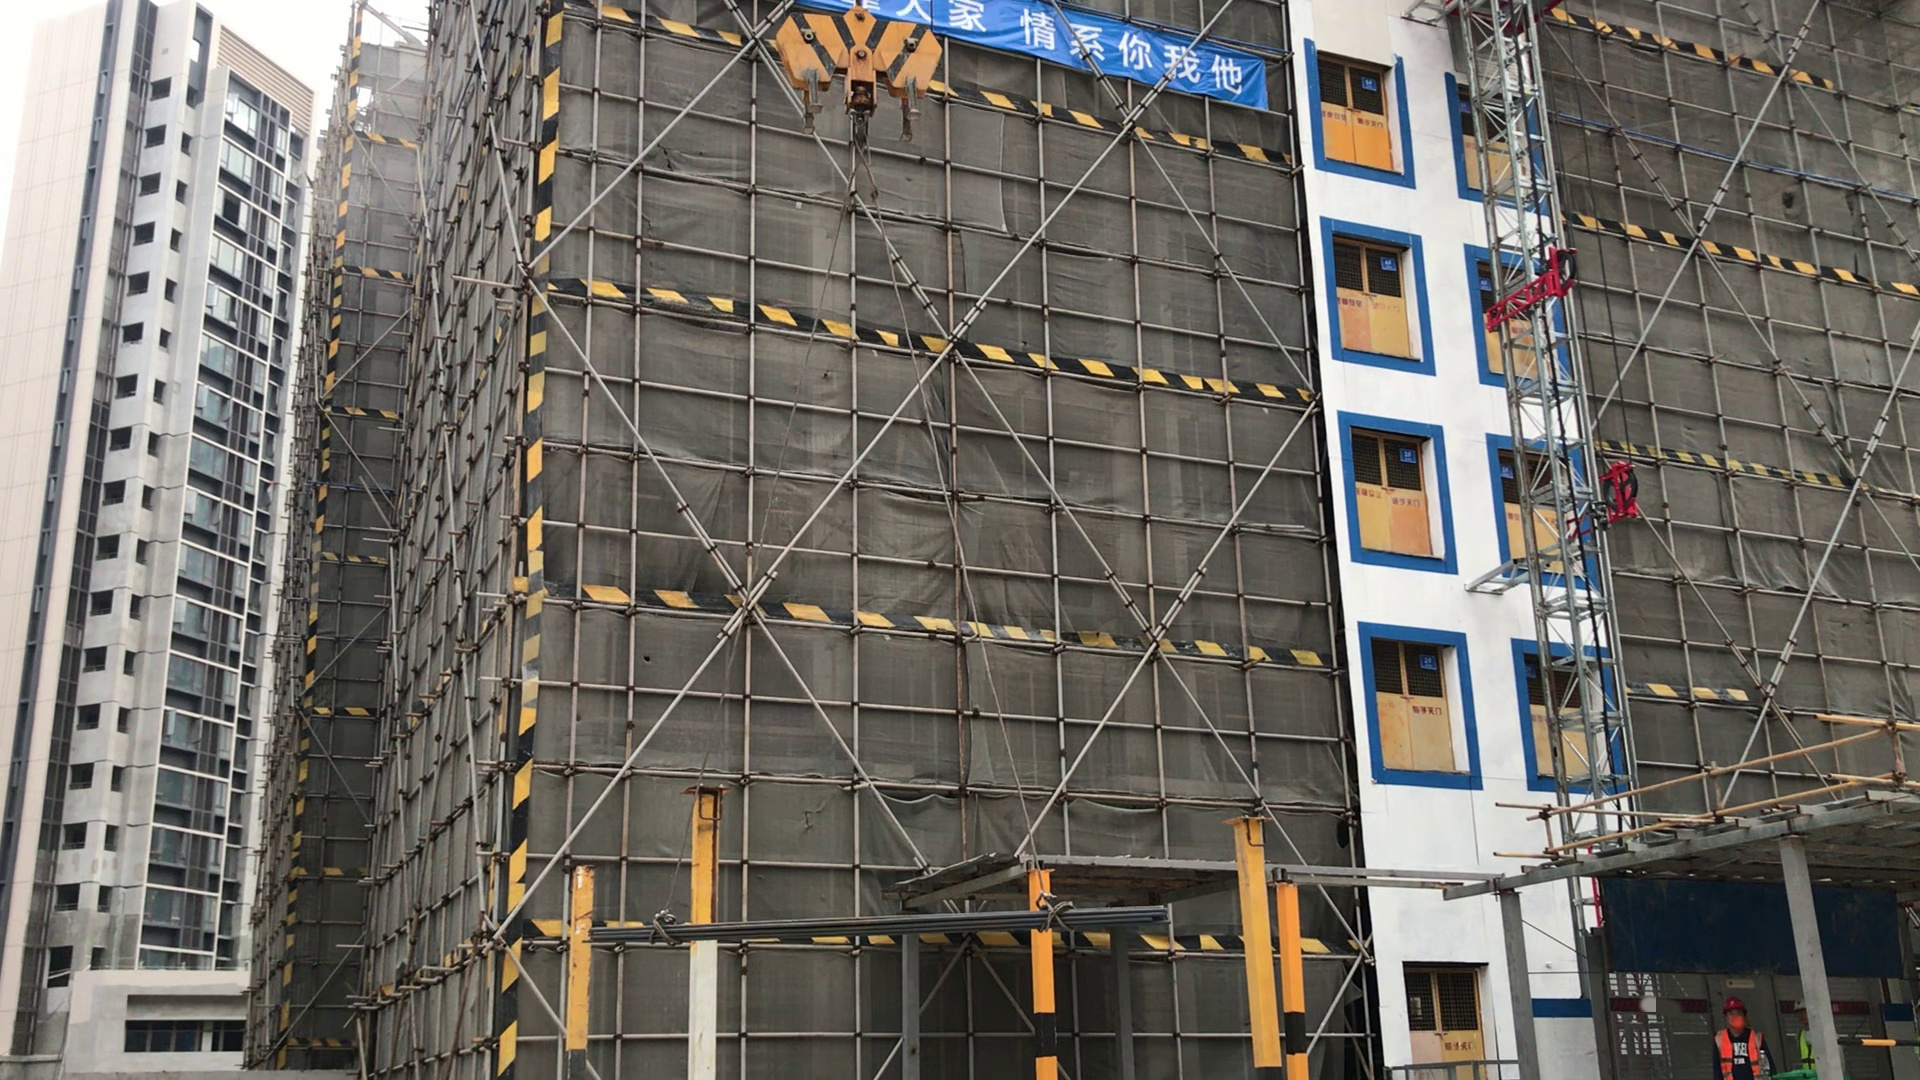helmet: (1720, 994, 1749, 1013), (1791, 995, 1809, 1014)
hook: (727, 3, 1021, 187)
person: (1708, 991, 1770, 1080), (1796, 1001, 1832, 1076)
rebar: (554, 900, 1192, 959)
slogan: (827, 1, 1292, 126)
vest: (1713, 1027, 1768, 1080), (1795, 1023, 1820, 1076)
